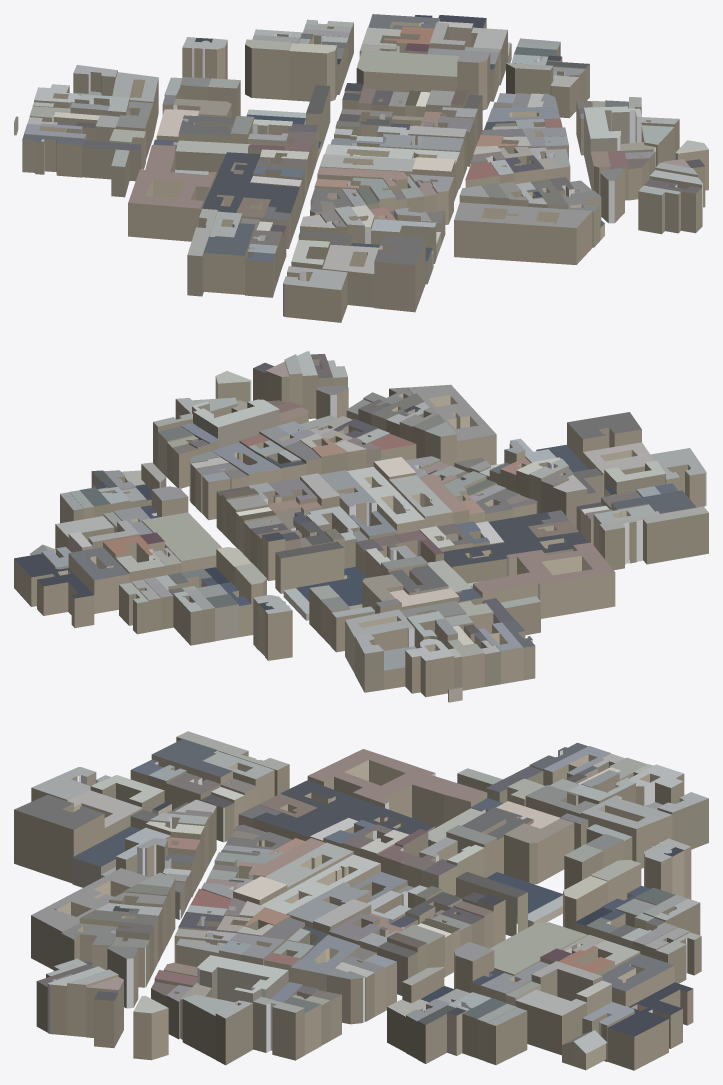
3 renders of one model, top to bottom at view 1: azimuth 30°, elevation 25°; view 2: azimuth 150°, elevation 25°; view 3: azimuth 270°, elevation 25°, orthographic. The views are drawn at different scales.
Parts seen in each view (by area): view 1: tuile; view 2: tuile; view 3: tuile.
Part boxes in pixels (x1=…): tuile: x1=14, y1=14, x2=708, y2=322; tuile: x1=14, y1=351, x2=708, y2=702; tuile: x1=14, y1=731, x2=708, y2=1070.
Bounding box in the file's own units: 272 × 32.48 × 278.
